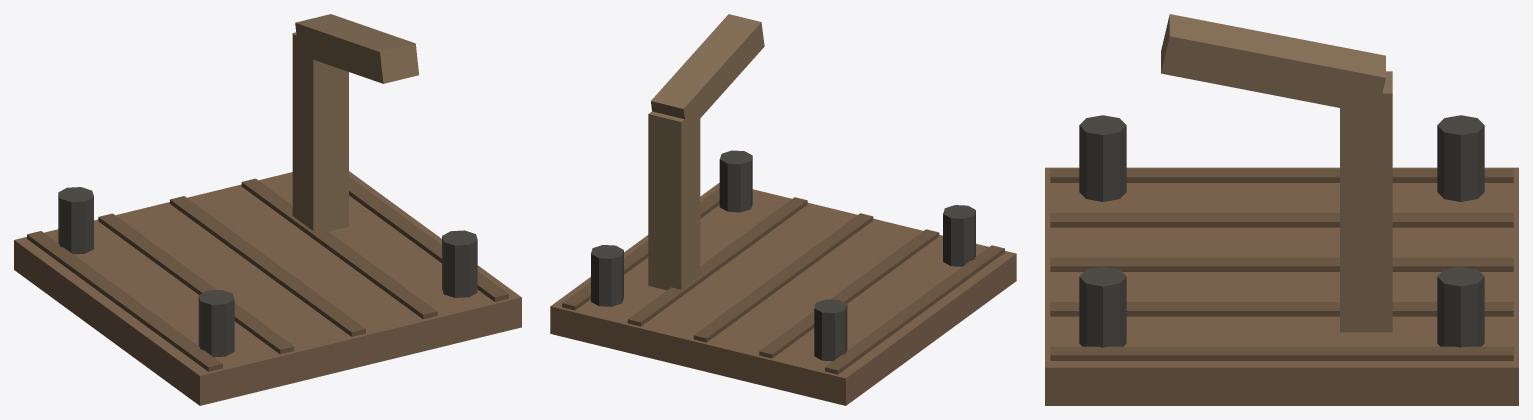
Rendered from dock.glb.
3 views of the same model, side by side, from view 1: azimuth 30°, elevation 25°; view 2: azimuth 150°, elevation 25°; view 3: azimuth 270°, elevation 25° (orthographic). The views are drawn at different scales.
Visible parts, largest first — view 1: dock; view 2: dock; view 3: dock.
Part boxes in pixels (box(x1,y1,x2,y2)): dock: box(14, 14, 521, 405); dock: box(550, 14, 1016, 405); dock: box(1045, 14, 1518, 405).
Bounding box in the file's own units: 0.9 × 0.7002 × 0.9.
